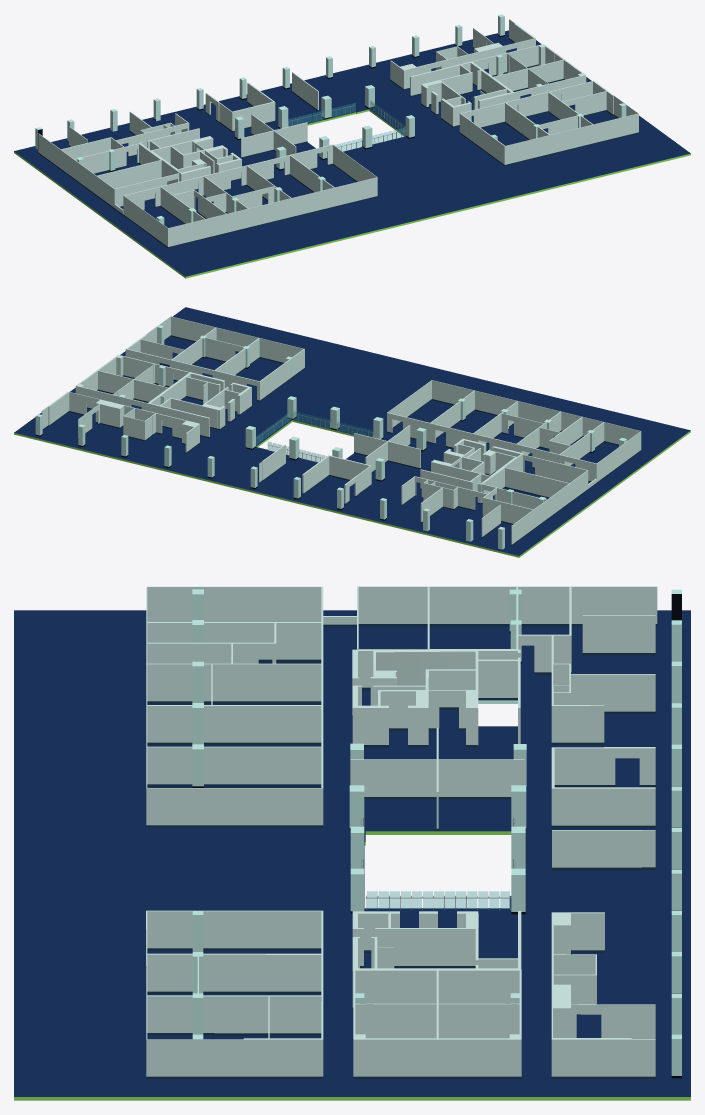
Rendered from 3F_Floor.fbx.
3 views of the same model, one above another, from view 1: azimuth 30°, elevation 25°; view 2: azimuth 150°, elevation 25°; view 3: azimuth 270°, elevation 25° (orthographic). The views are drawn at different scales.
Visible parts, largest first — view 1: 3_Floor, Room_02, Room_07, Room_01, Room_06, 3F_Pillar, Room_05, 3F_EV_02, 3F_EV_01, Room_04, Center_Pillar_3F, Room_03 (+5 smaller); view 2: 3_Floor, Room_02, Room_01, Room_07, Room_05, Room_06, 3F_Pillar, 3F_EV_02, Room_04, 3F_EV_01, Room_03, Center_Pillar_3F (+5 smaller); view 3: 3_Floor, Room_02, Room_07, Room_01, Room_06, 3F_EV_02, Room_04, Room_05, 3F_EV_01, 3F_Pillar, Room_03, Center_Pillar_3F (+3 smaller).
Boxes of the visible parts, left/top/right/bottom form: 3_Floor: left=14, top=30, right=690, bottom=278; Room_02: left=114, top=144, right=377, bottom=248; Room_07: left=459, top=80, right=638, bottom=165; Room_01: left=38, top=111, right=189, bottom=208; Room_06: left=472, top=44, right=586, bottom=110; 3F_Pillar: left=35, top=14, right=626, bottom=224; Room_05: left=390, top=19, right=535, bottom=90; 3F_EV_02: left=424, top=61, right=514, bottom=127; 3F_EV_01: left=139, top=140, right=241, bottom=191; Room_04: left=205, top=72, right=318, bottom=132; Center_Pillar_3F: left=235, top=85, right=414, bottom=170; Room_03: left=241, top=114, right=307, bottom=158; 3_Floor: left=14, top=307, right=690, bottom=557; Room_02: left=387, top=380, right=641, bottom=489; Room_01: left=401, top=454, right=588, bottom=545; Room_07: left=125, top=316, right=304, bottom=401; Room_05: left=41, top=391, right=199, bottom=453; Room_06: left=75, top=354, right=189, bottom=410; 3F_Pillar: left=35, top=325, right=626, bottom=549; 3F_EV_02: left=147, top=372, right=251, bottom=427; Room_04: left=259, top=444, right=371, bottom=504; 3F_EV_01: left=443, top=438, right=523, bottom=504; Room_03: left=354, top=425, right=420, bottom=472; Center_Pillar_3F: left=245, top=396, right=426, bottom=481; 3_Floor: left=14, top=610, right=690, bottom=1100; Room_02: left=146, top=586, right=356, bottom=827; Room_07: left=146, top=910, right=323, bottom=1078; Room_01: left=357, top=586, right=657, bottom=744; Room_06: left=353, top=969, right=521, bottom=1078; 3F_EV_02: left=352, top=911, right=521, bottom=1009; Room_04: left=551, top=747, right=655, bottom=869; Room_05: left=551, top=912, right=655, bottom=1078; 3F_EV_01: left=352, top=649, right=520, bottom=747; 3F_Pillar: left=192, top=589, right=681, bottom=1078; Room_03: left=350, top=728, right=524, bottom=830; Center_Pillar_3F: left=349, top=743, right=526, bottom=914.
Size of the model in its own units: 85 by 3.5 by 50.
